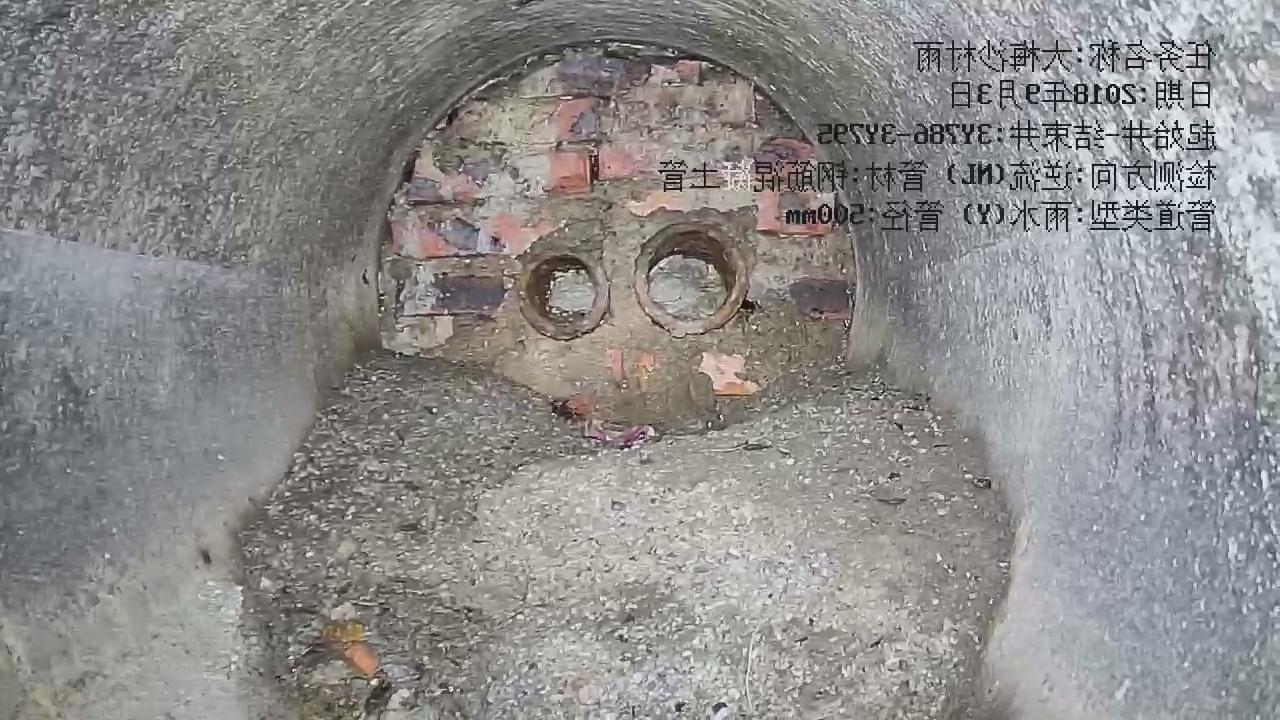CJ: (242, 353, 1010, 719)
CQBG: (379, 48, 854, 443)
